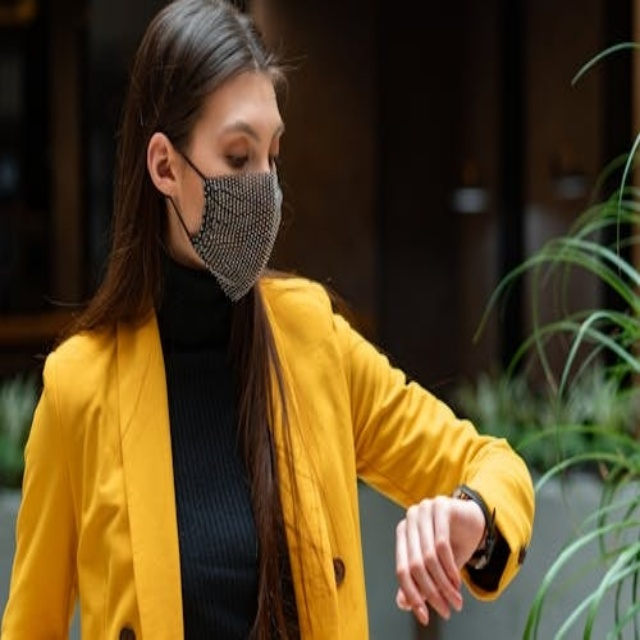Mascara: (170, 150, 283, 300)
Sin_gafas: (198, 113, 288, 169)
Sin_guantes: (391, 491, 481, 625)
